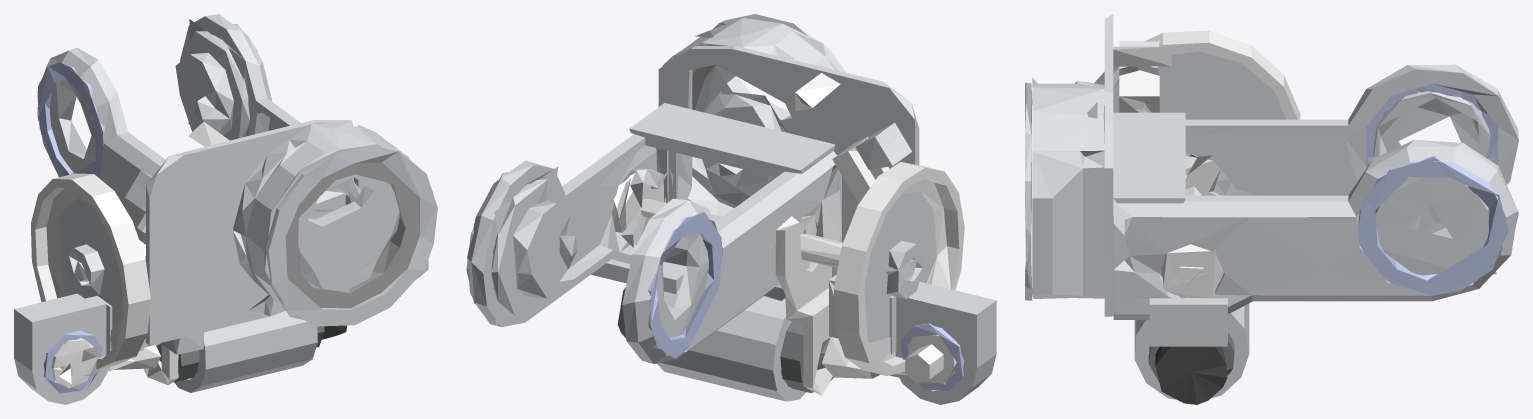
The model's file is LLEG_LINK0_mesh.dae.
3 views of the same model, side by side, from view 1: azimuth 30°, elevation 25°; view 2: azimuth 150°, elevation 25°; view 3: azimuth 270°, elevation 25° (orthographic). The views are drawn at different scales.
Parts seen in each view (by area): view 1: LLEG_LINK0 (×18); view 2: LLEG_LINK0 (×21); view 3: LLEG_LINK0 (×16).
Boxes of the visible parts, x1=… form: LLEG_LINK0 (×18): x1=14, y1=14, x2=437, y2=404; LLEG_LINK0 (×21): x1=467, y1=14, x2=996, y2=404; LLEG_LINK0 (×16): x1=1025, y1=14, x2=1518, y2=404.
Bounding box in the file's own units: 0.1548 × 0.1176 × 0.1705.
